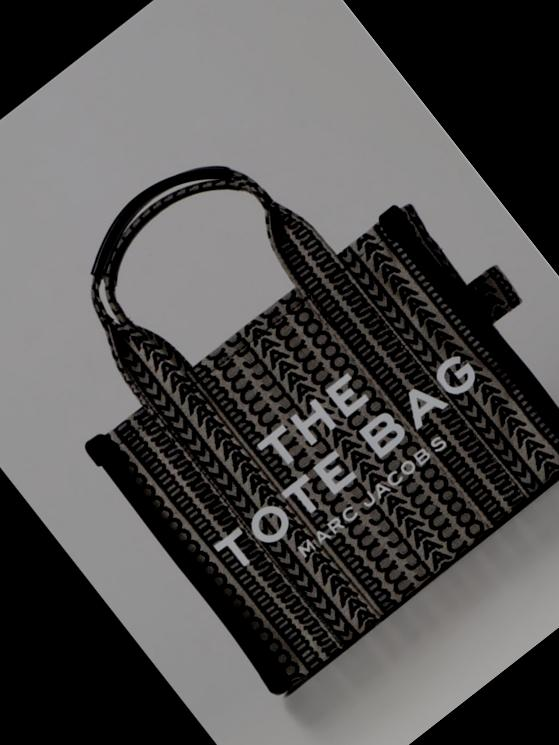MARC-JACOBS: (295, 434, 448, 558)
